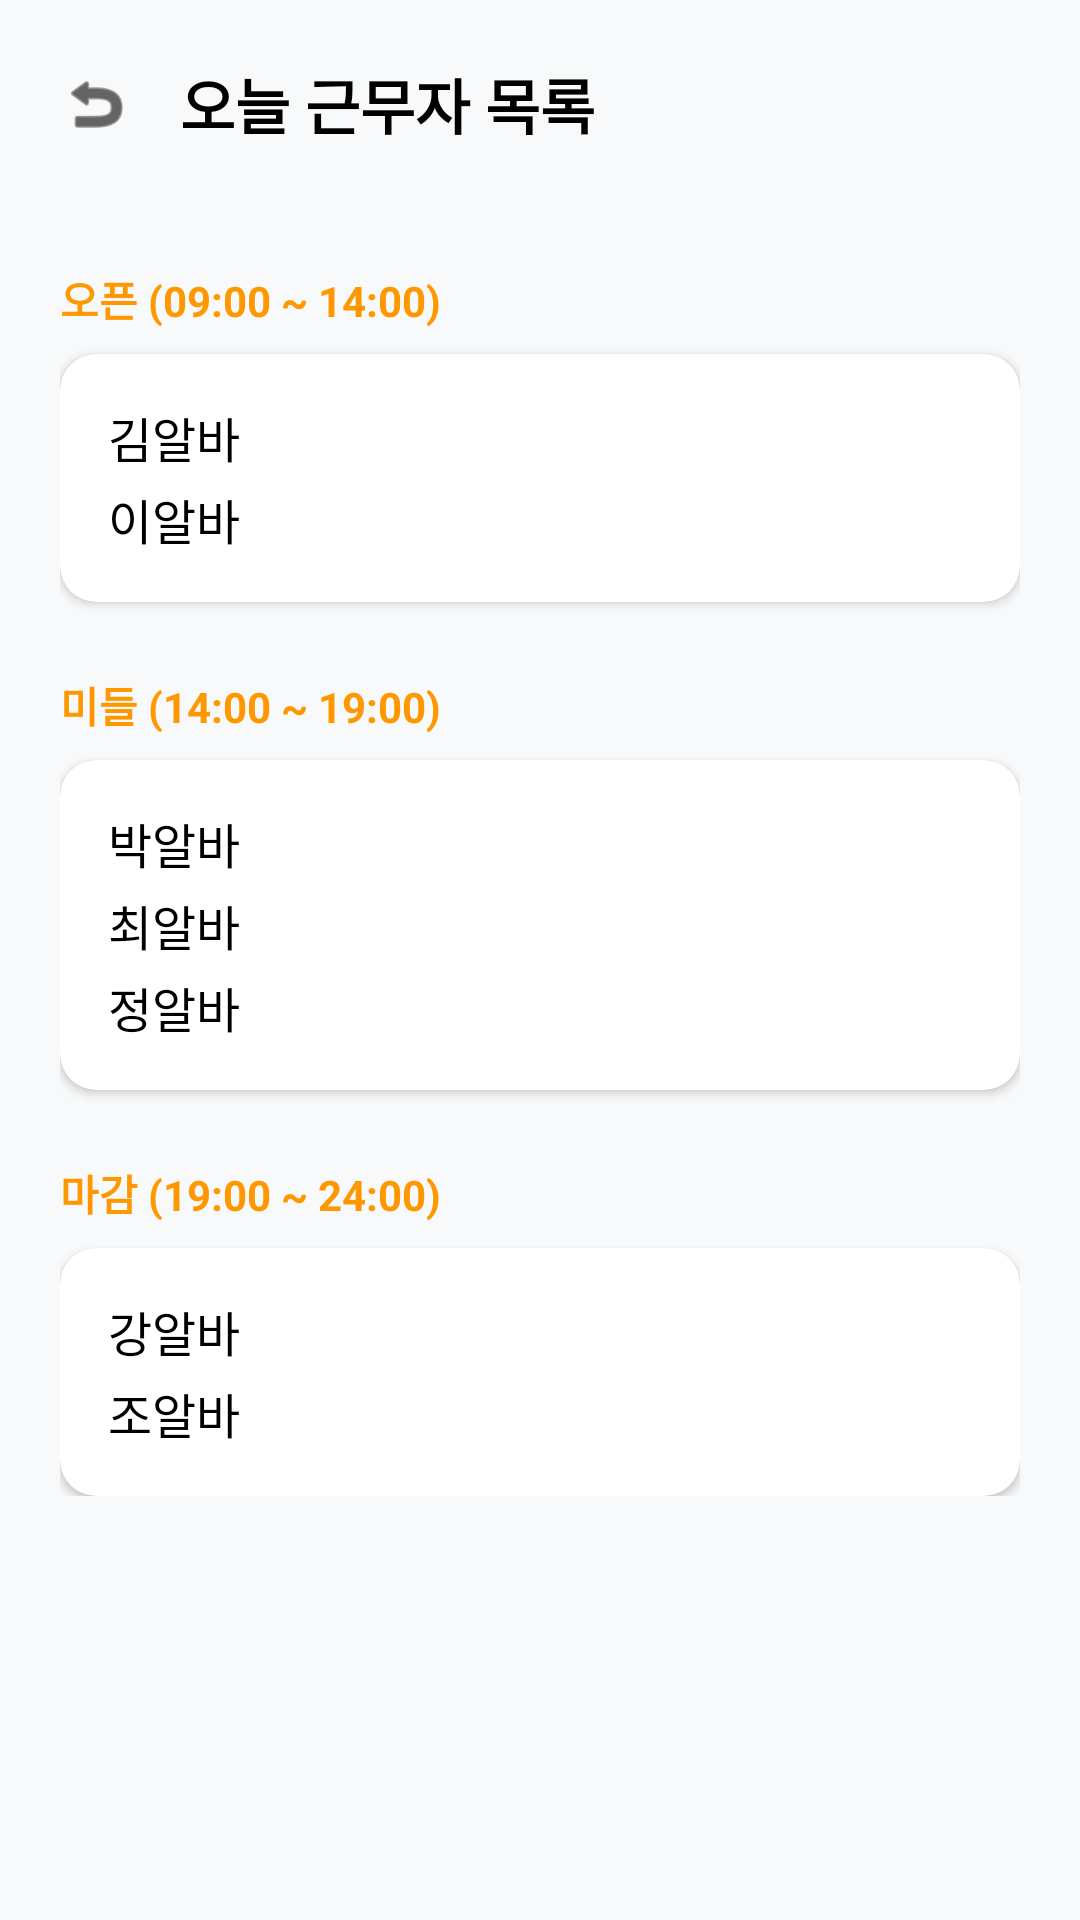

Named icons in this screenshot (1080x1920) and their centers, point (x, y):
revert: point (97, 104)
